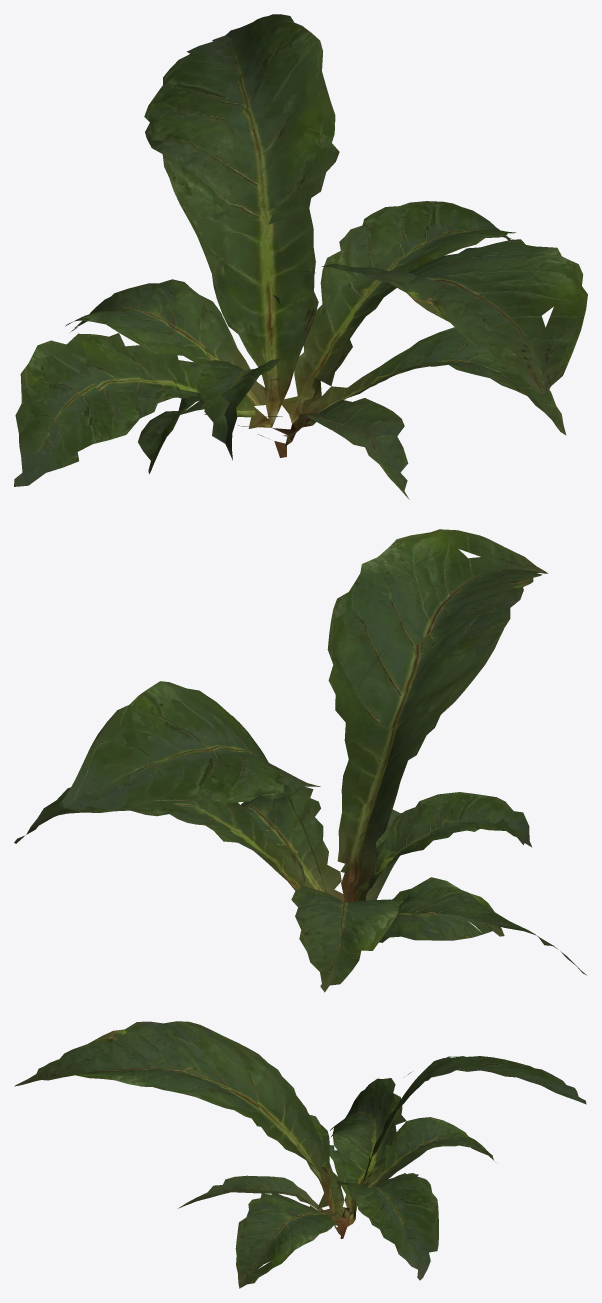
The model's file is antorio_0.glb.
3 views of the same model, one above another, from view 1: azimuth 30°, elevation 25°; view 2: azimuth 150°, elevation 25°; view 3: azimuth 270°, elevation 25° (orthographic). The views are drawn at different scales.
Visible parts, largest first — view 1: antorio; view 2: antorio; view 3: antorio.
Boxes of the visible parts, box(x1,y1,x2,y2) form: antorio: box(14, 14, 587, 499); antorio: box(14, 529, 586, 992); antorio: box(14, 1021, 586, 1288).
Bounding box in the file's own units: 0.8868 × 0.4848 × 1.14.
1 material, 1 textured.
